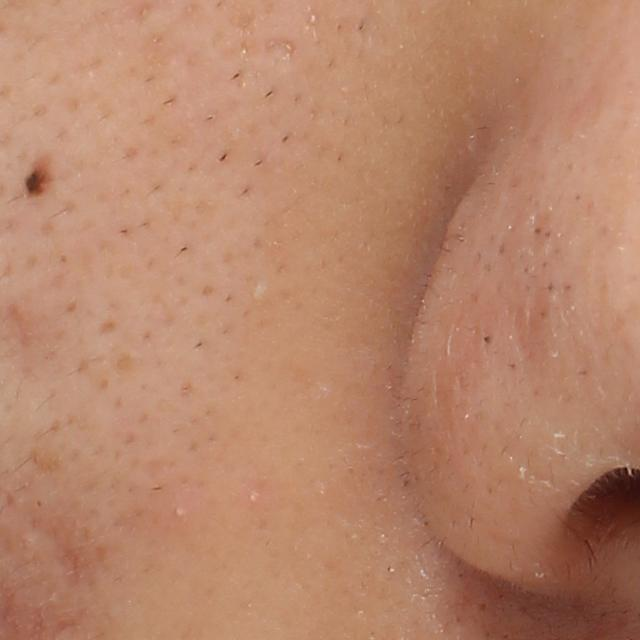atrophic_scar: (27, 514, 93, 591), (260, 40, 298, 62)
comedo: (248, 283, 269, 309)
nevus: (22, 159, 54, 201)
